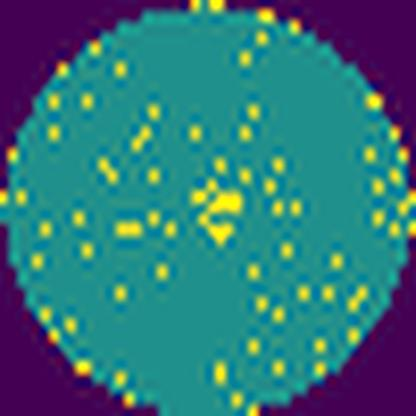Center: (191, 179, 246, 252)
